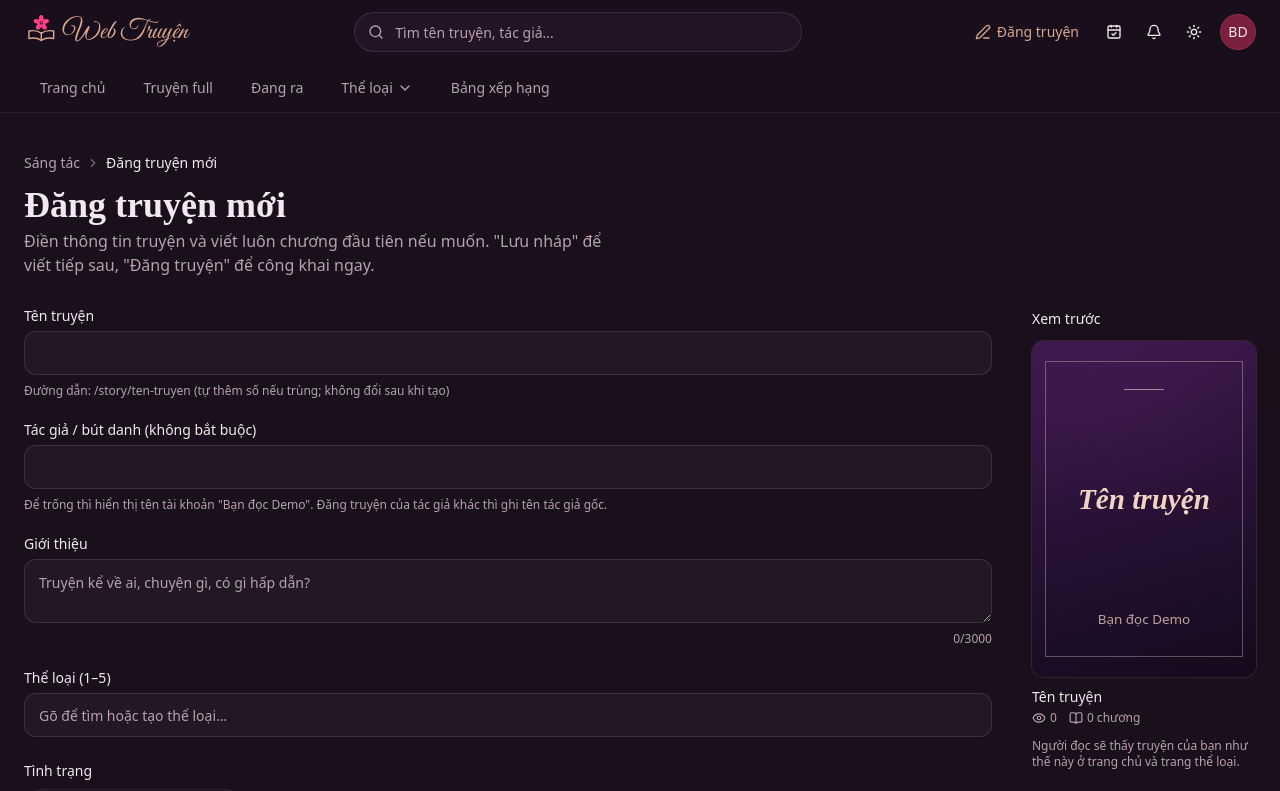
Test: ô chọn: tạo trùng thể loại người khác vừa tạo thì chọn nó, với tên đúng
The image size is (1280, 791).
Step 1. Click the dropdown labelled "Thể loại (1–5)" → coordinates (508, 715), box 24,693 -> 992,737
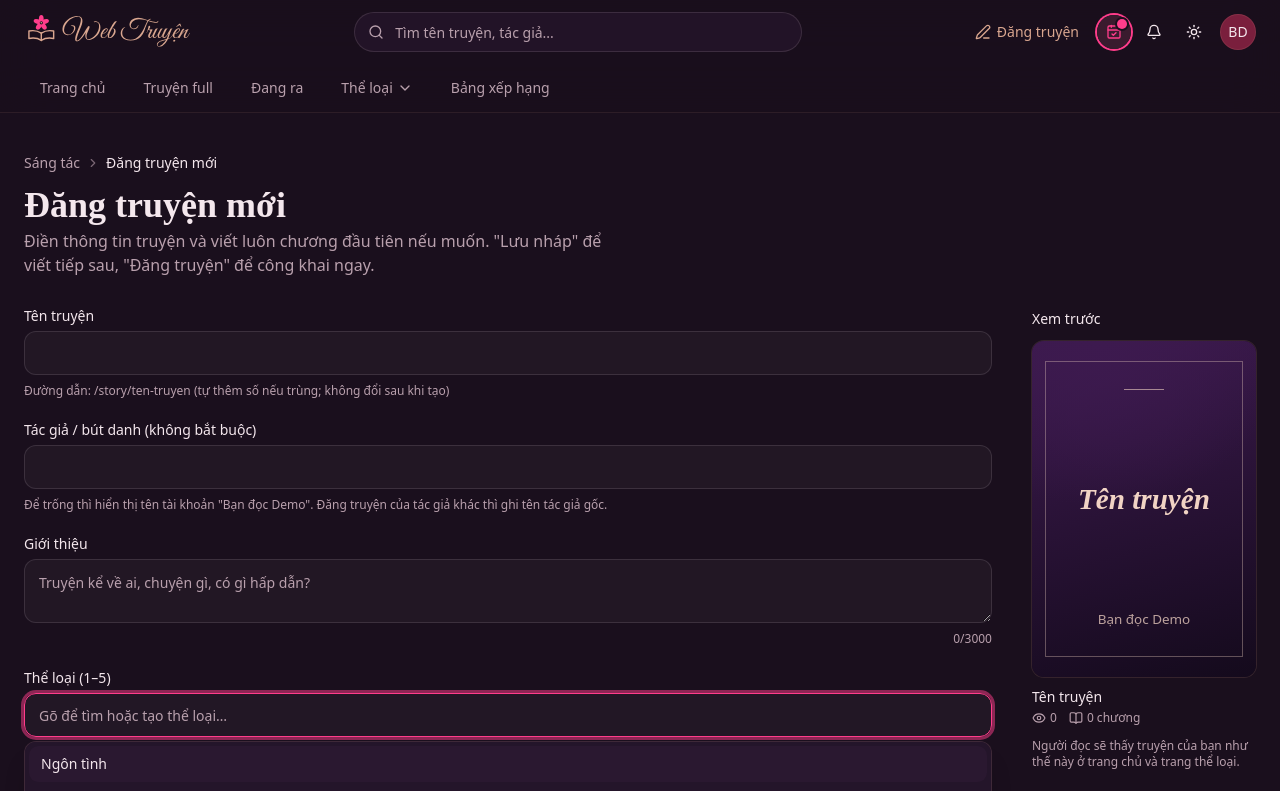
Step 2. Type "hệ thống" into the dropdown labelled "Thể loại (1–5)" → coordinates (508, 715), box 24,693 -> 992,737
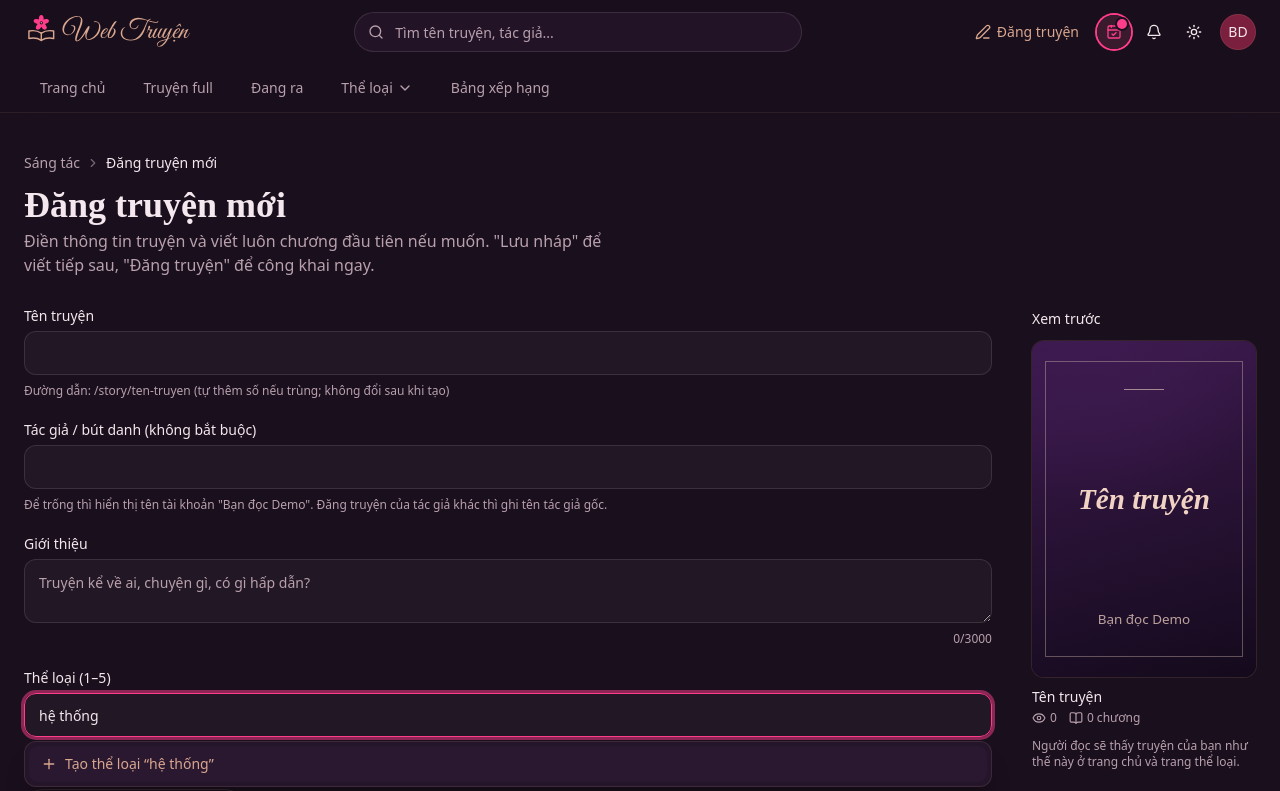
Step 3. Click the option "Tạo thể loại “hệ thống”" → coordinates (107, 764), box 29,746 -> 987,782
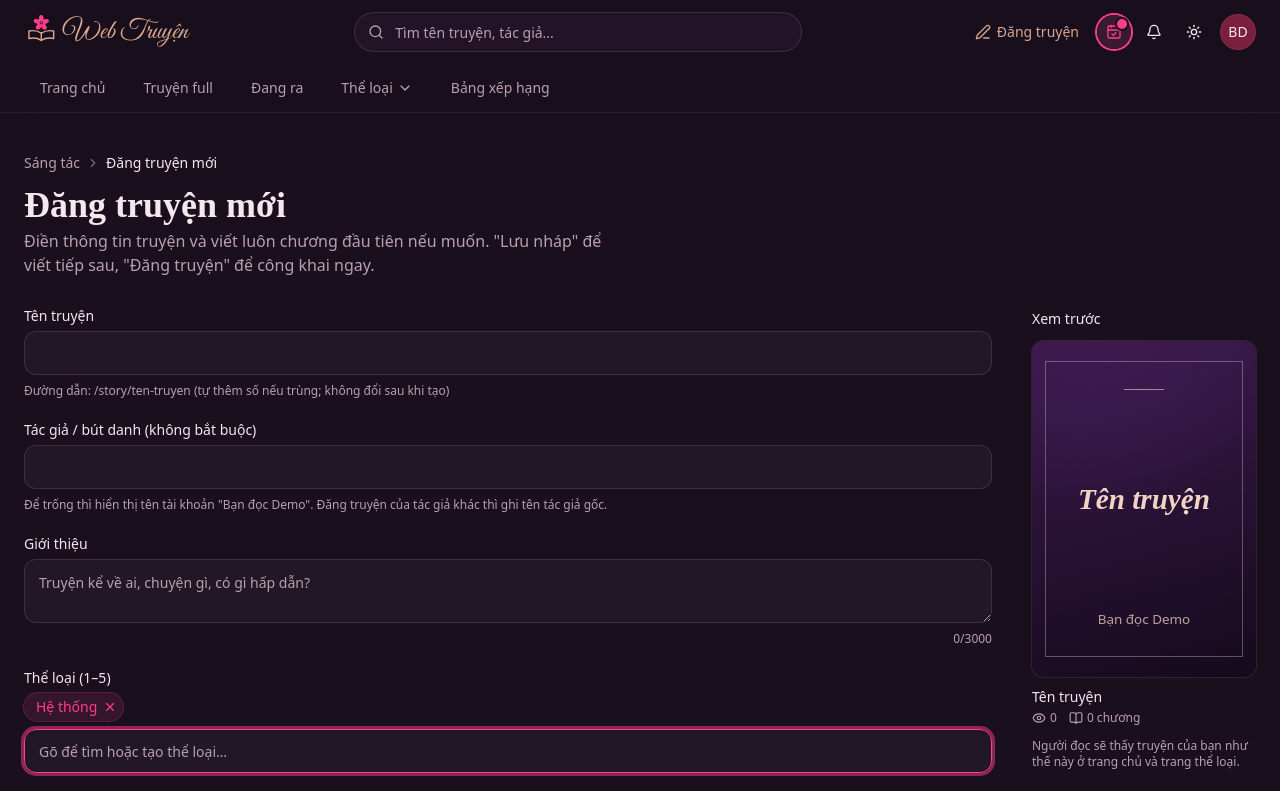
Check: the button named "Bỏ thể loại Hệ thống" is shown, box 101,698 -> 119,716
